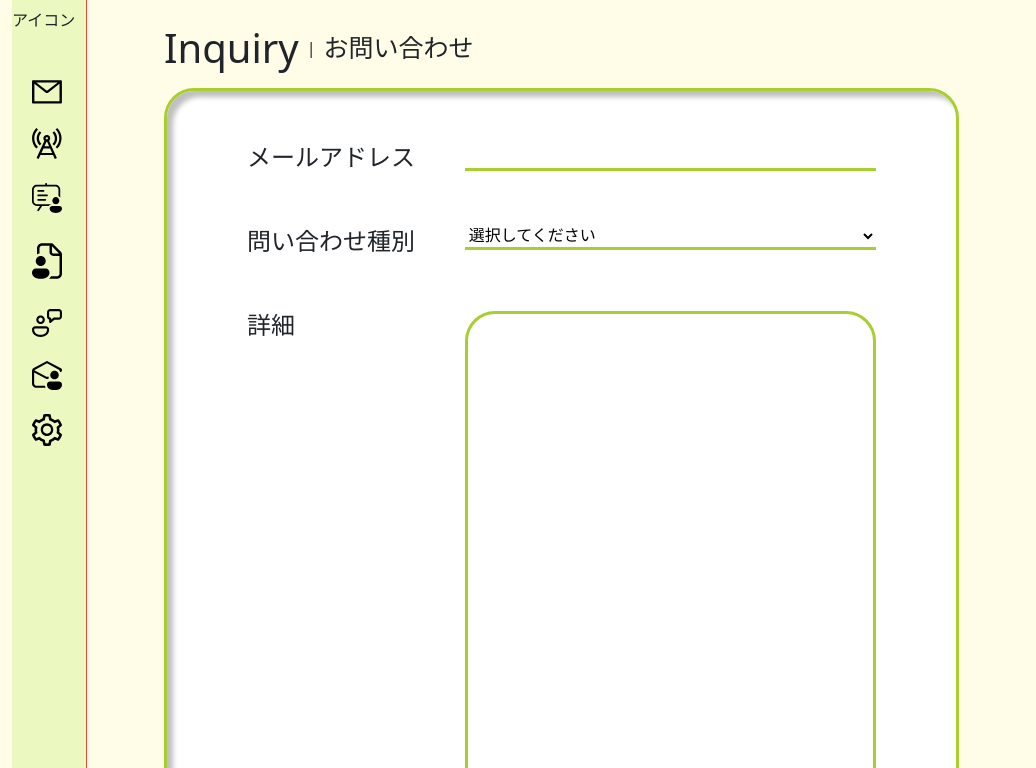
お問い合わせ › 詳細を入れないとバリデーションメッセージが表示される
In the field with test id "inquiry-input-email": (670, 157) [465,143,876,171], type "test@example.com"
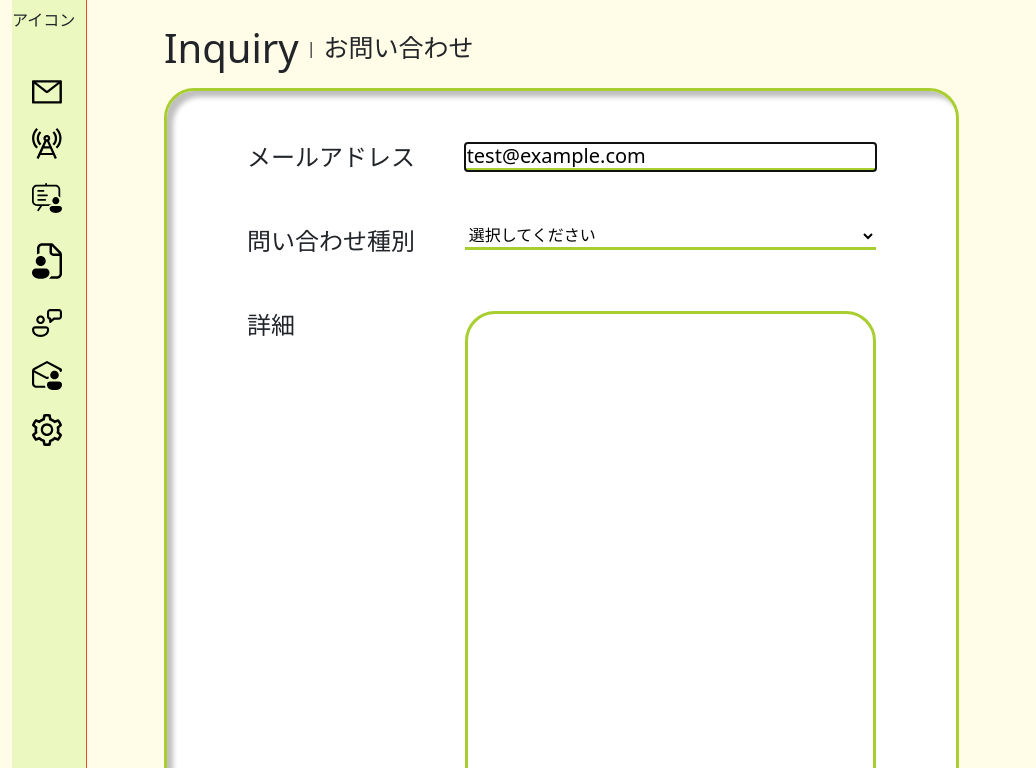
Select "機能関連" in the dropdown with test id "inquiry-input-type": (670, 236) [465,223,876,250]
(page scrolled)
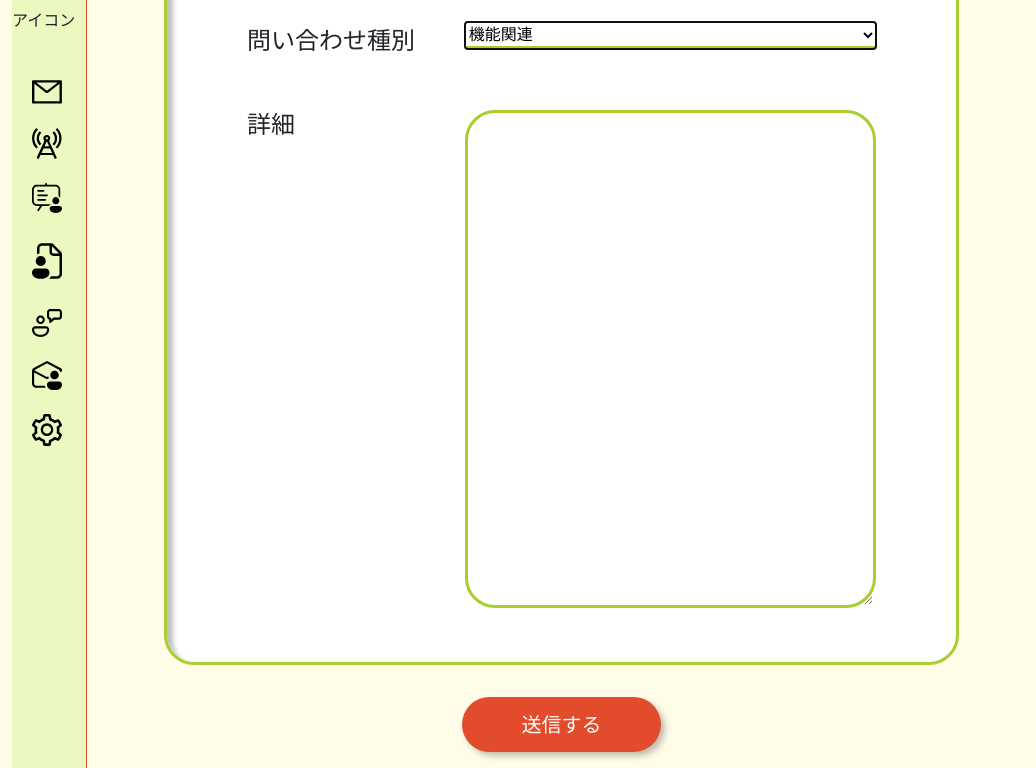
Click the button: (562, 724) [462,697,661,752]
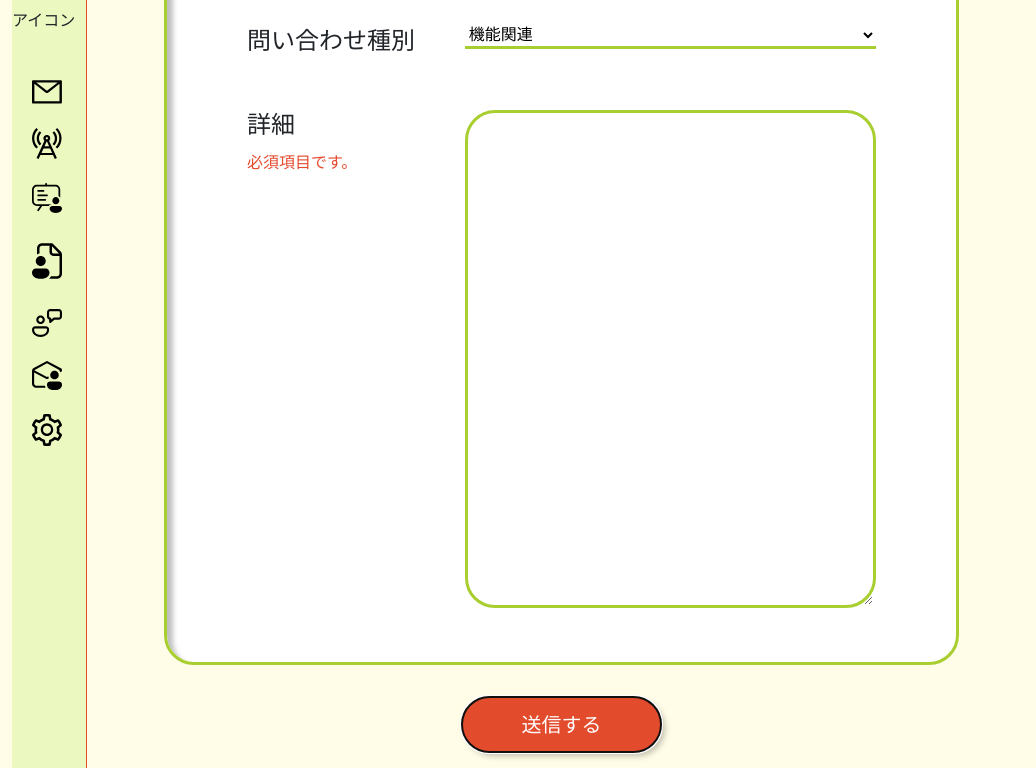
Expected: the text "必須項目です。" is shown, [247,151,357,173]
